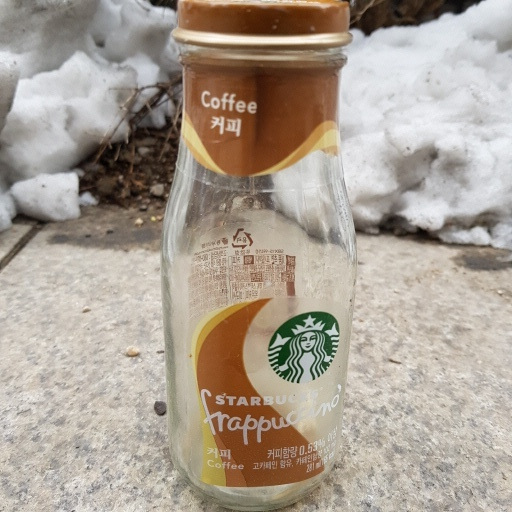Glass_4: (157, 3, 361, 506)
